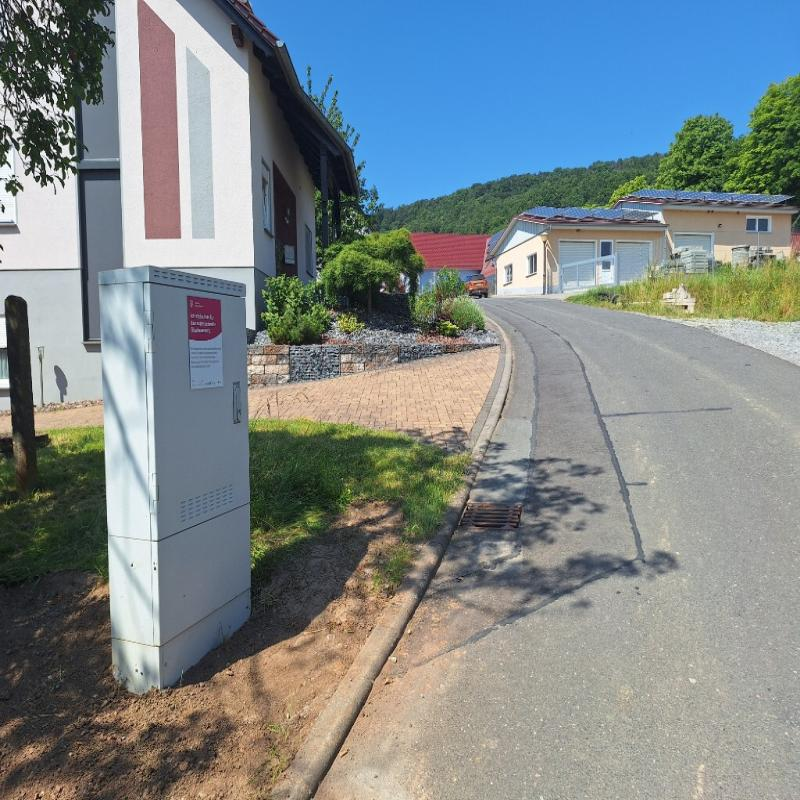NT-Gehause: (98, 266, 250, 682)
Steaker: (187, 295, 222, 389)
